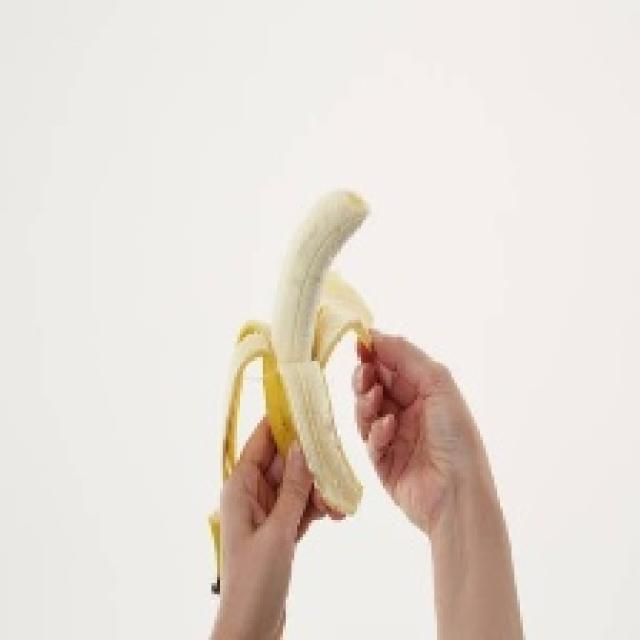Banana: (206, 186, 374, 591)
